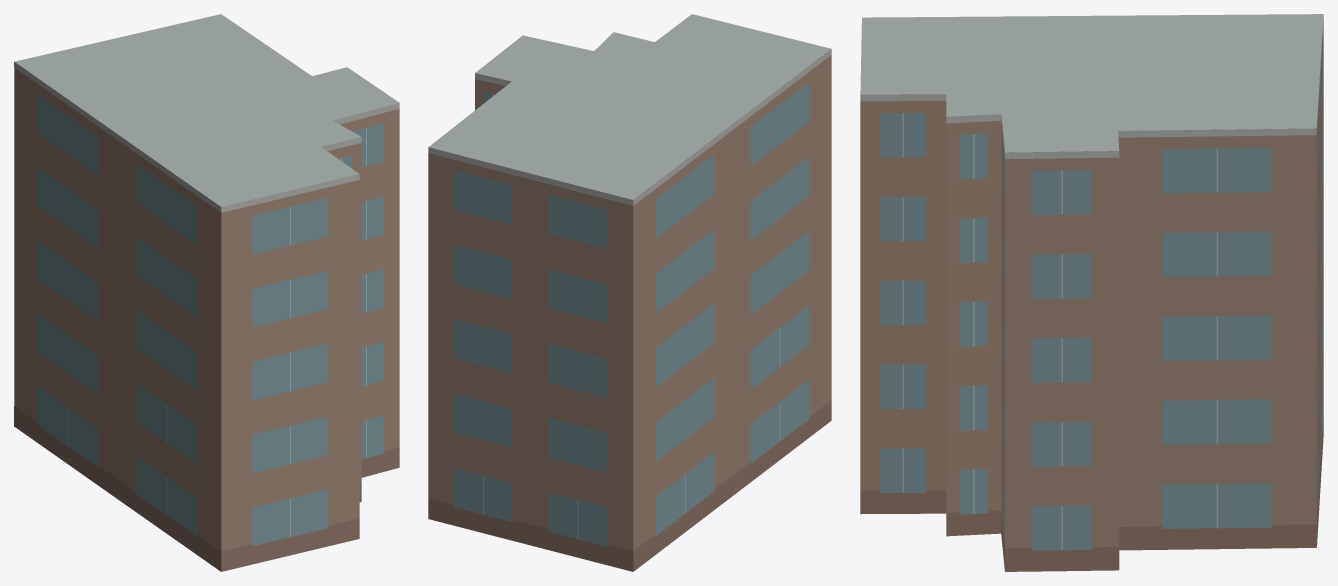
Rendered from survey-upis-32873198.glb.
3 renders of one model, left to right at view 1: azimuth 30°, elevation 25°; view 2: azimuth 150°, elevation 25°; view 3: azimuth 270°, elevation 25°, orthographic. The views are drawn at different scales.
Visible parts, largest first — view 1: survey-upis-32873198.tmp; view 2: survey-upis-32873198.tmp; view 3: survey-upis-32873198.tmp.
Boxes of the visible parts, x1=… form: survey-upis-32873198.tmp: x1=14, y1=14, x2=399, y2=571; survey-upis-32873198.tmp: x1=428, y1=14, x2=831, y2=571; survey-upis-32873198.tmp: x1=860, y1=14, x2=1323, y2=571.
Size of the model in its own units: 10.81 by 15.25 by 15.28.
